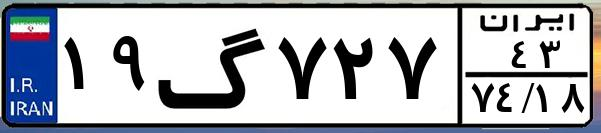1: (57, 26, 110, 100), (535, 70, 560, 125)
2: (330, 28, 385, 110)
3: (537, 27, 568, 80)
4: (508, 27, 537, 80), (495, 70, 520, 125)
7: (270, 28, 330, 110), (385, 28, 445, 110), (470, 70, 495, 125)
8: (560, 70, 590, 125)
9: (110, 28, 156, 98)
گ: (156, 12, 270, 120)
